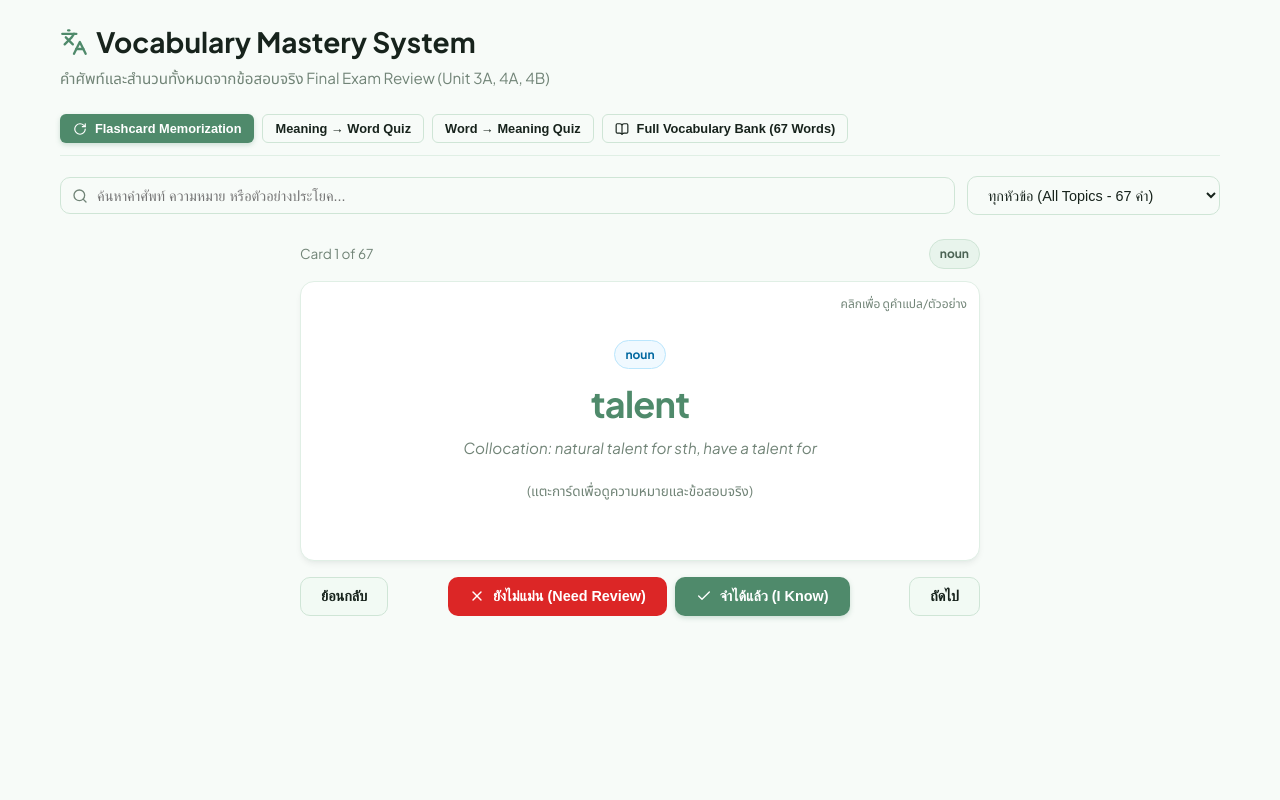
Scenario: VocabularyView — Quiz Regression Tests › TEST 5: Flashcard Known button saves status and advances to next card
Expected: the text "Card 1 of 67" is shown, [300, 243, 373, 265]
Expected: the heading "talent" is shown, [591, 381, 689, 426]
# Click Known
Click the button "จำได้แล้ว (I Know)": point(762, 596) [675, 577, 850, 616]
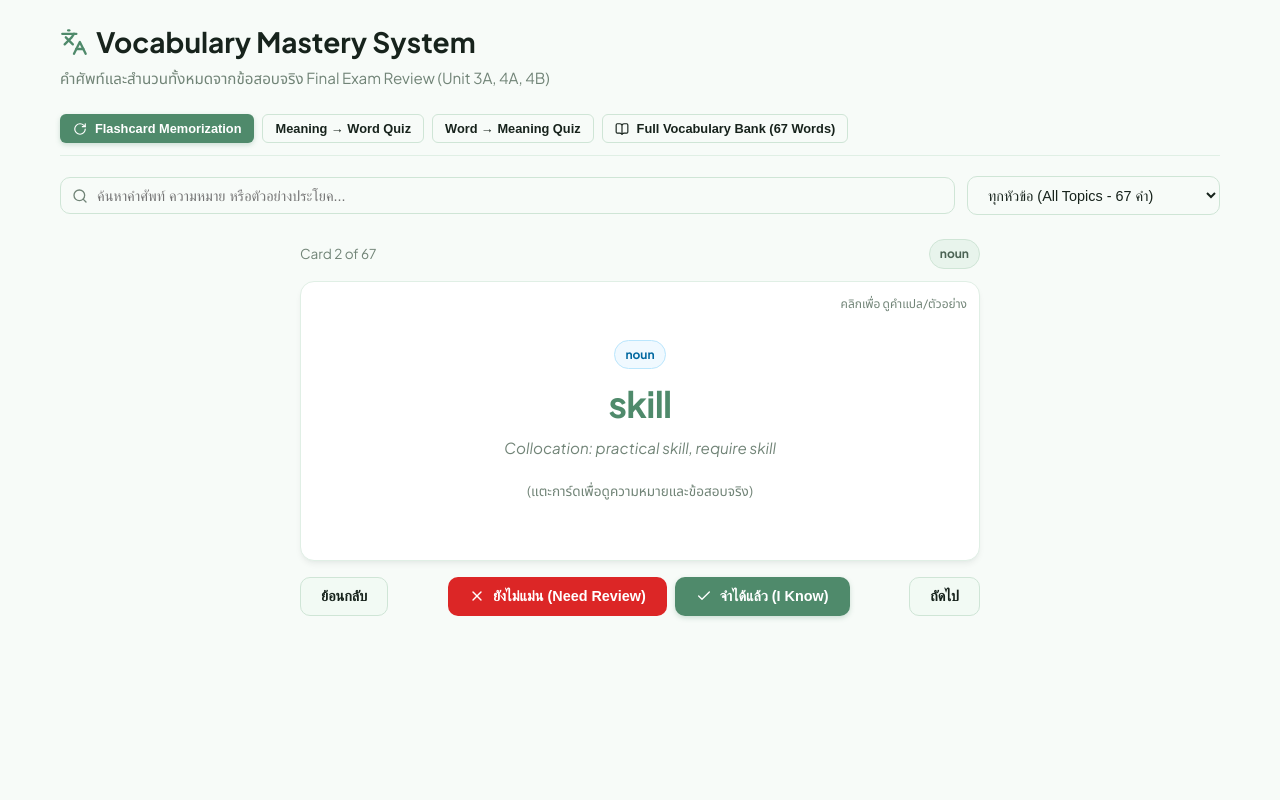
Expected: the text "Card 2 of 67" is shown, [300, 243, 376, 265]
